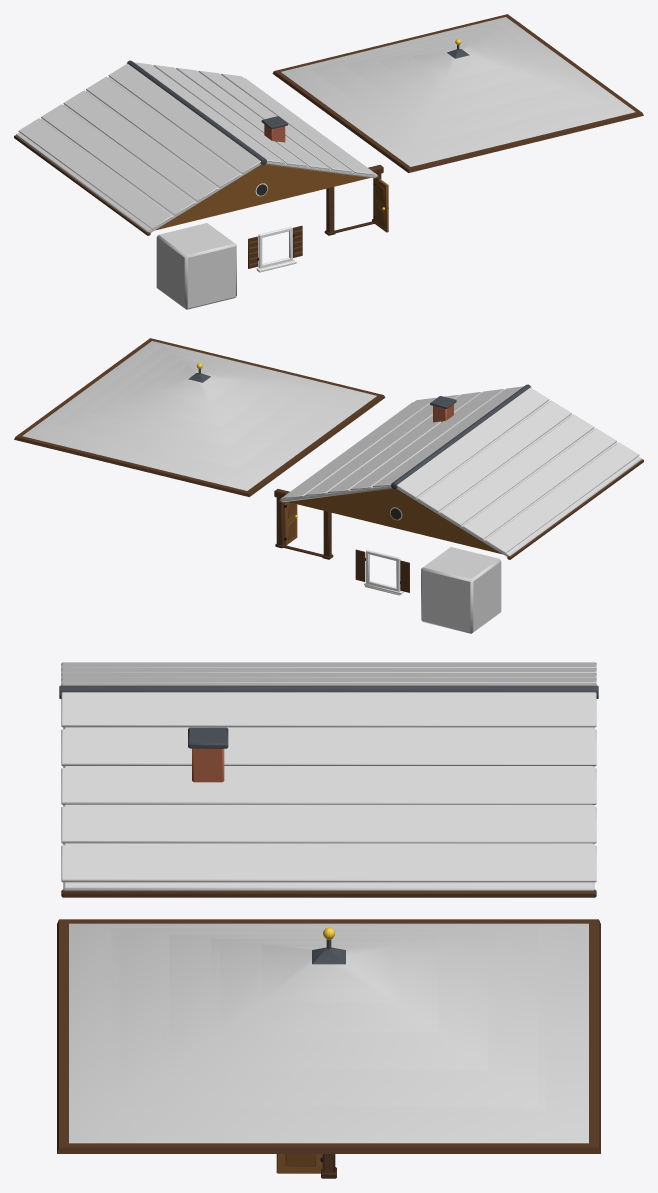
The model's file is buildings.glb.
3 views of the same model, one above another, from view 1: azimuth 30°, elevation 25°; view 2: azimuth 150°, elevation 25°; view 3: azimuth 270°, elevation 25° (orthographic). The views are drawn at different scales.
Parts seen in each view (by area): view 1: R_gable, R_pyr, B_wall, B_door, B_winF; view 2: R_gable, R_pyr, B_wall, B_door, B_winF; view 3: R_pyr, R_gable, B_door.
Boxes of the visible parts, left/top/right/bottom form: R_gable: left=14, top=60, right=379, bottom=235; R_pyr: left=272, top=14, right=643, bottom=172; B_wall: left=156, top=223, right=236, bottom=309; B_door: left=324, top=165, right=388, bottom=235; B_winF: left=248, top=225, right=302, bottom=272; R_gable: left=278, top=384, right=643, bottom=559; R_pyr: left=14, top=338, right=385, bottom=496; B_wall: left=421, top=547, right=501, bottom=633; B_door: left=274, top=489, right=333, bottom=559; B_winF: left=355, top=549, right=409, bottom=595; R_pyr: left=57, top=919, right=600, bottom=1153; R_gable: left=59, top=662, right=598, bottom=897; B_door: left=276, top=1154, right=336, bottom=1178.
Bounding box in the file's own units: 569 × 209 × 270.
